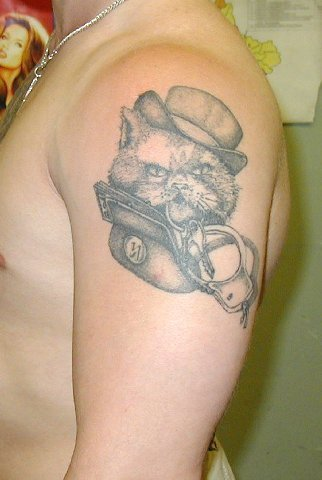tatu8_kot: (97, 81, 274, 324)
